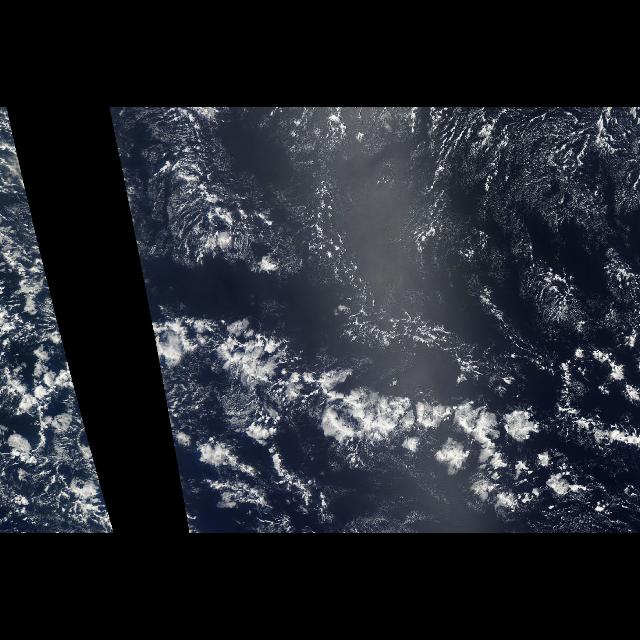Fish: (145, 302, 618, 520)
Sugar: (197, 108, 639, 356)
